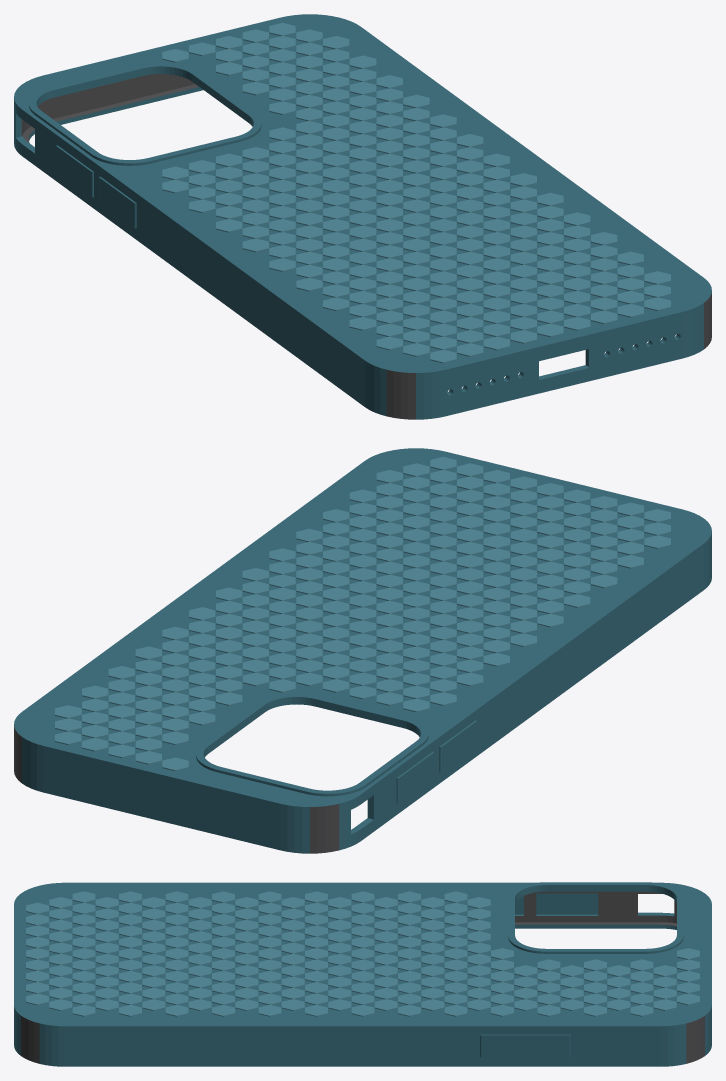
File: kilif-pro-max-altigen-okyanus.glb
3 renders of one model, top to bottom at view 1: azimuth 30°, elevation 25°; view 2: azimuth 150°, elevation 25°; view 3: azimuth 270°, elevation 25°, orthographic. The views are drawn at different scales.
Visible parts, largest first — view 1: Kilif; view 2: Kilif; view 3: Kilif.
Boxes of the visible parts, x1,y1,x2,y2 form: Kilif: [14, 14, 711, 419]; Kilif: [14, 448, 711, 853]; Kilif: [14, 882, 711, 1066].
Bounding box in the file's own units: 0.0819 × 0.0112 × 0.1664.
